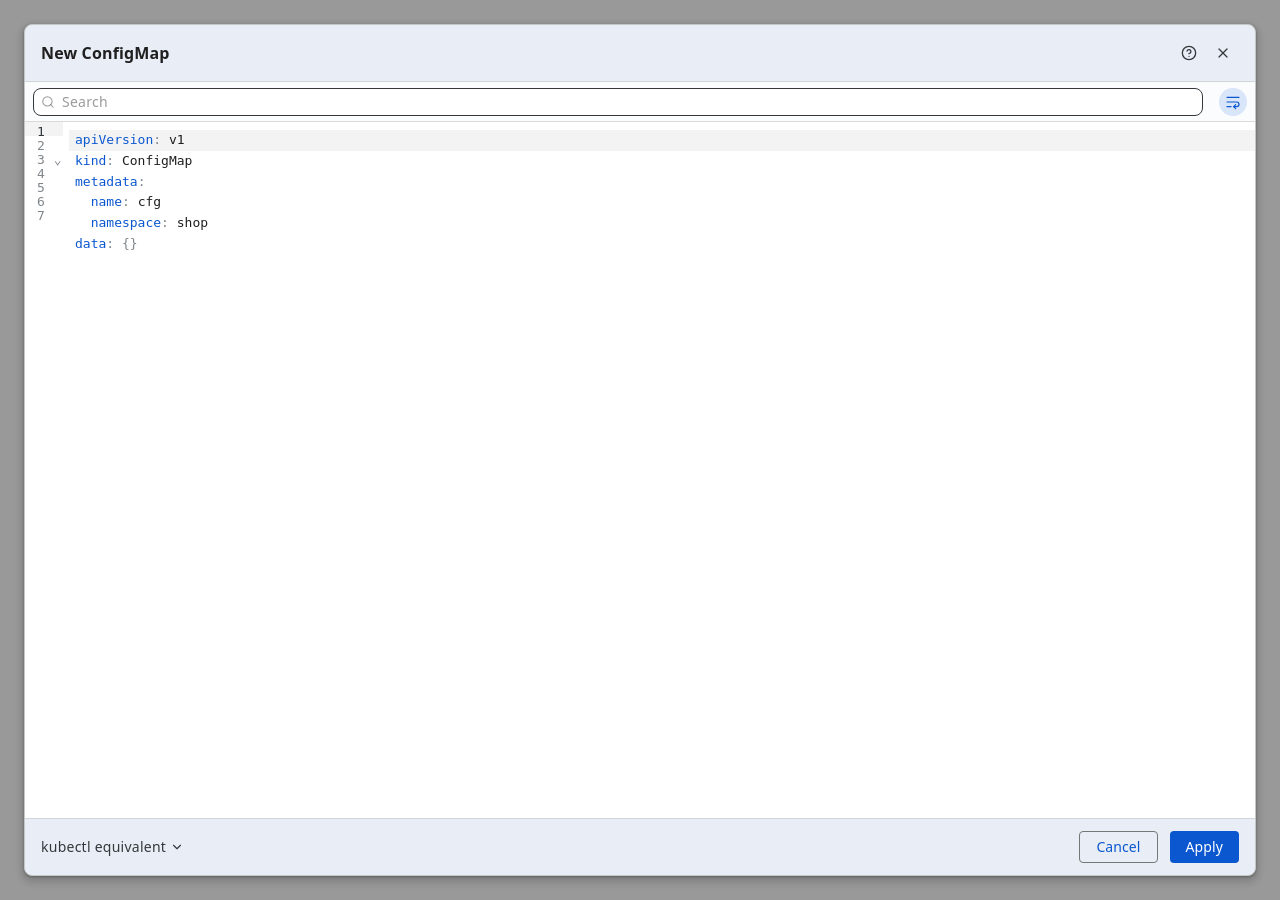
Test: creating with several namespaces selected › does not ask when exactly one is selected: the skeleton already names it
Expected: the button "Apply" is enabled, [1170,831,1239,863]
Click the button "kubectl equivalent" at {"x": 113, "y": 847}, box [35,833,190,861]
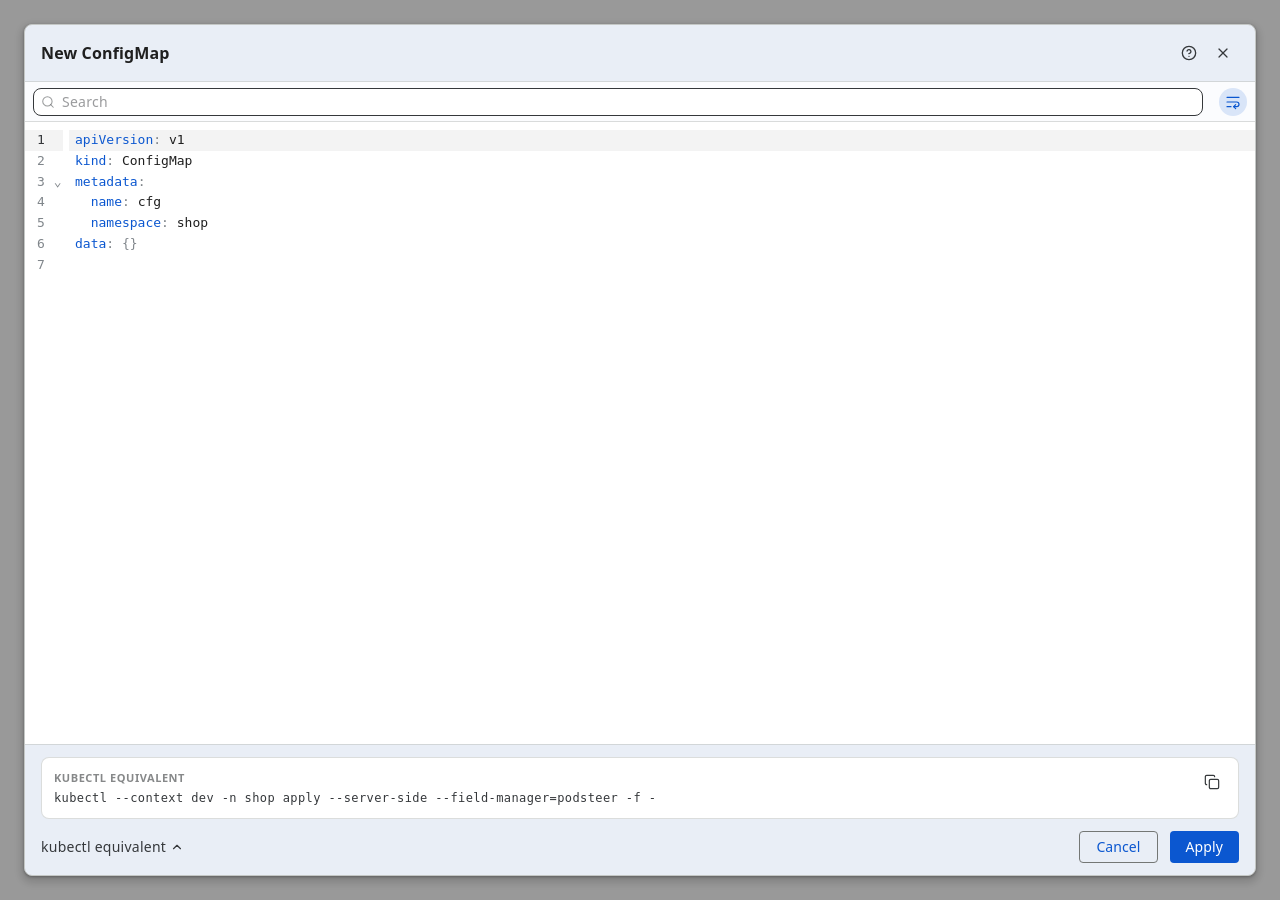
Expected: the text "kubectl --context dev -n shop apply" is shown, [54,791,656,805]
